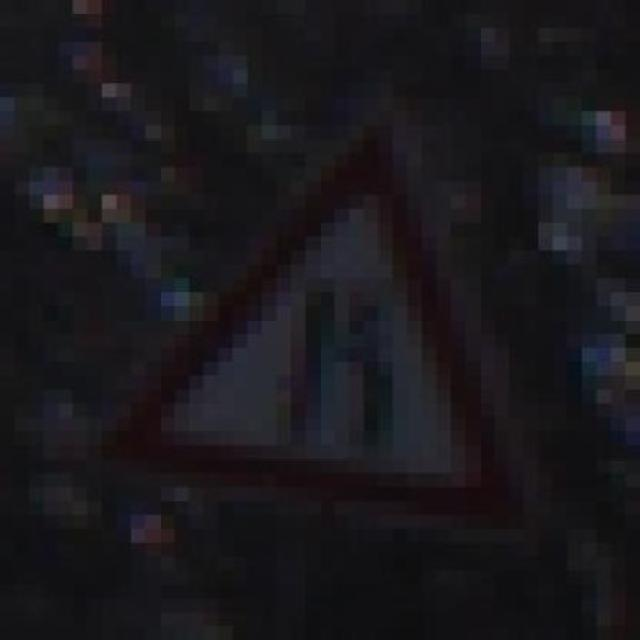-Road narrows on right: (88, 111, 538, 543)
